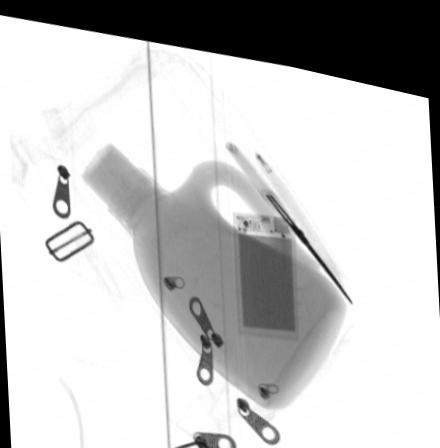Powerbank: (233, 198, 296, 331)
Scissors: (220, 128, 360, 293)
